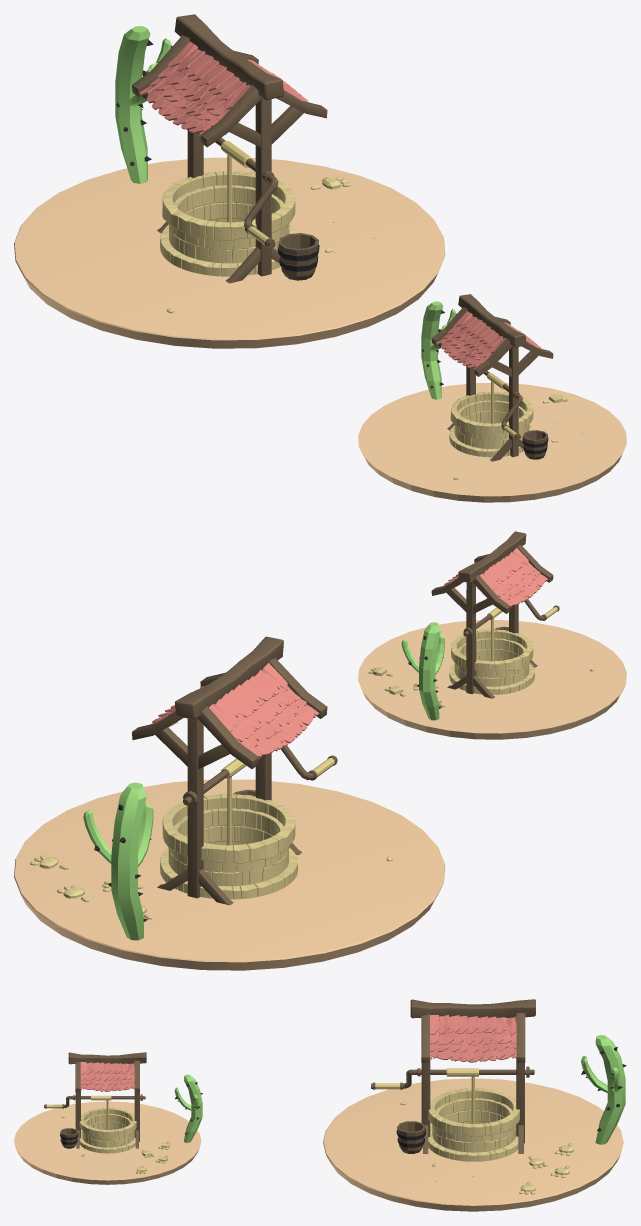
Rendered from SM_CactusWell.fbx_Scene.fbx.
The picture shows the model from 3 angles, top to bottom: view 1: azimuth 30°, elevation 25°; view 2: azimuth 150°, elevation 25°; view 3: azimuth 270°, elevation 25°; orthographic projection. The views are drawn at different scales.
Parts seen in each view (by area): view 1: Circle.001, Well piece.046, Cube.045, Roof Tilkes.003, Cylinder.001, Bucket.001, Cylinder.007; view 2: Circle.001, Well piece.046, Cube.045, Roof Tilkes.003, Cylinder.001, Cylinder.007; view 3: Circle.001, Well piece.046, Cube.045, Roof Tilkes.002, Cylinder.001, Cylinder.007, Bucket.001.
Part boxes in pixels (bbox=[...]): Circle.001: bbox=[14, 157, 445, 348]; Well piece.046: bbox=[358, 294, 626, 502]; Cube.045: bbox=[132, 14, 327, 283]; Roof Tilkes.003: bbox=[139, 41, 250, 136]; Cylinder.001: bbox=[115, 26, 171, 183]; Bucket.001: bbox=[278, 233, 319, 280]; Cylinder.007: bbox=[215, 137, 278, 248]; Circle.001: bbox=[14, 779, 445, 970]; Well piece.046: bbox=[358, 531, 626, 739]; Cube.045: bbox=[132, 636, 327, 905]; Roof Tilkes.003: bbox=[209, 663, 318, 759]; Cylinder.001: bbox=[83, 782, 153, 940]; Cylinder.007: bbox=[183, 745, 337, 806]; Circle.001: bbox=[323, 1078, 623, 1211]; Well piece.046: bbox=[14, 1052, 202, 1184]; Cube.045: bbox=[410, 999, 535, 1153]; Roof Tilkes.002: bbox=[430, 1015, 516, 1062]; Cylinder.001: bbox=[581, 1035, 625, 1144]; Cylinder.007: bbox=[371, 1066, 534, 1089]; Bucket.001: bbox=[396, 1121, 426, 1153].
Size of the model in its own units: 3169 by 1750 by 6461.
